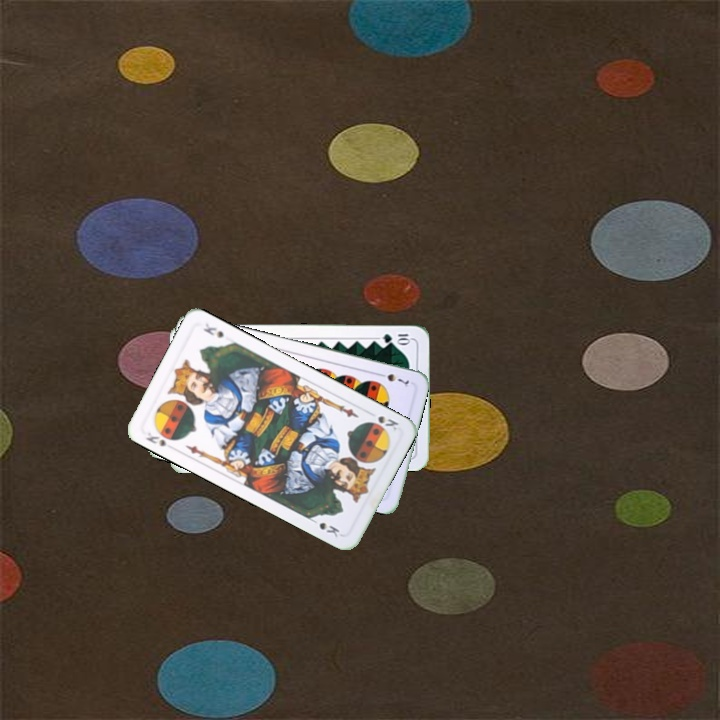G10: (378, 330, 413, 346)
S7: (373, 369, 412, 390)
SK: (364, 407, 401, 433), (142, 428, 169, 449)
